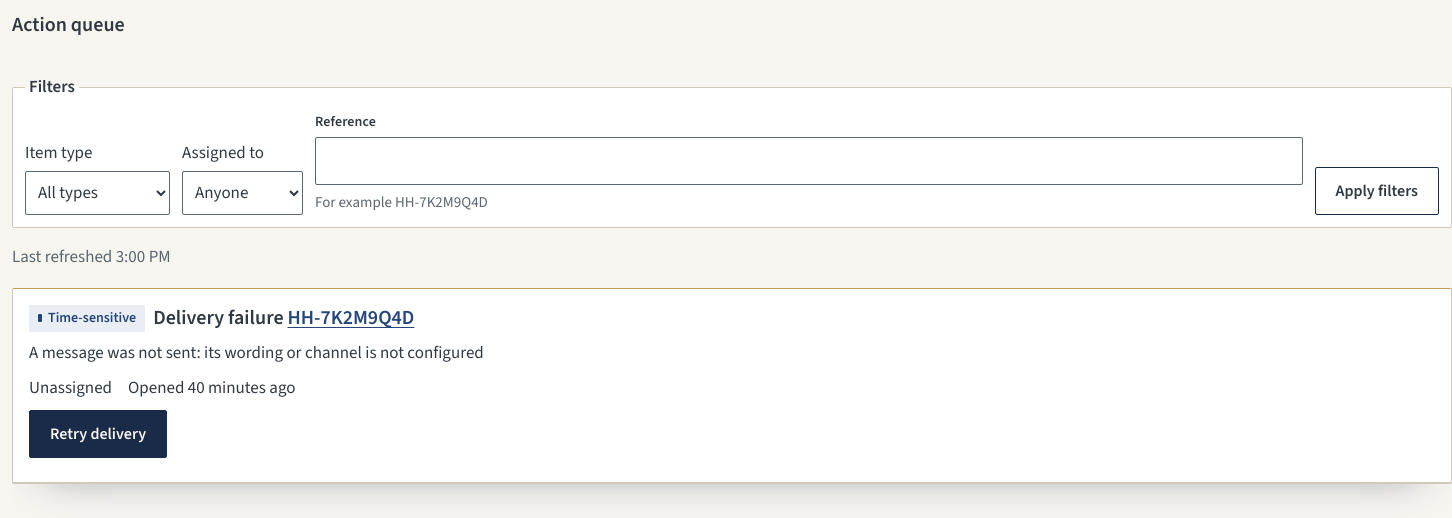
Scenario: Retry on a delivery issue (TSK-0032, HH-INT-20, HH-COM-02, T12) › [T12][HH-INT-20] the one action retries the message on the server and reloads the list
This screenshot has width=1452, height=518.
Expected: the text "A message was not sent: its wording or channel is not configured" is shown, [29, 341, 484, 365]
What coordinates should you click on to do the following:
click the button "Retry delivery"
I would click on:
 (98, 434)
Its box is [29, 410, 167, 458].
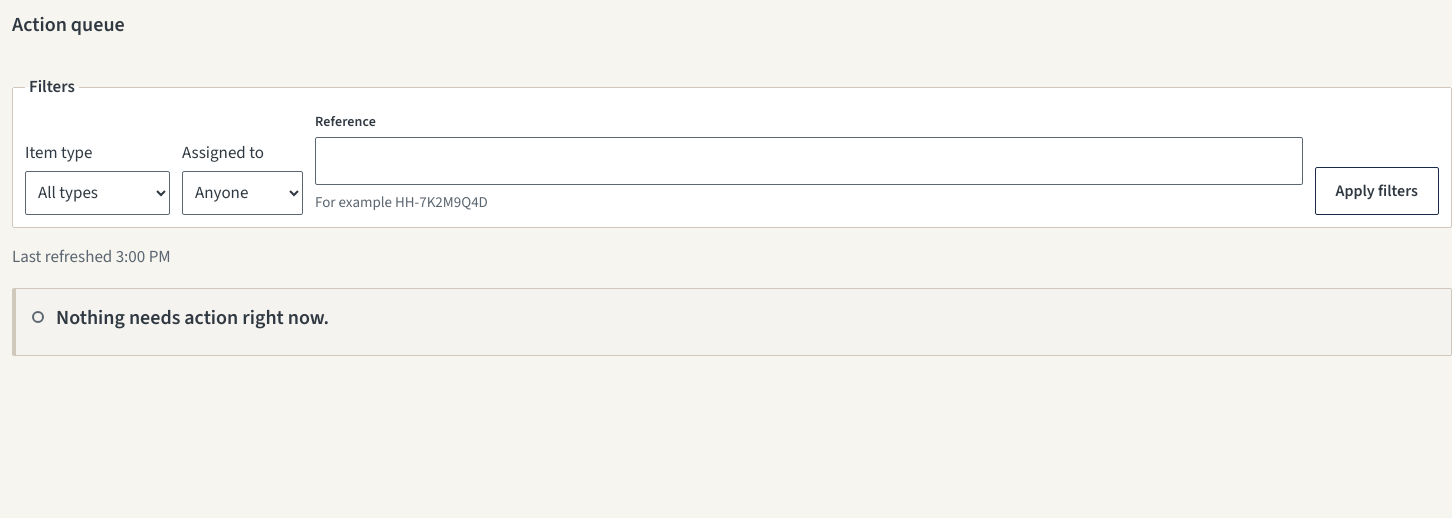
Now the text "Delivery failure" is gone
